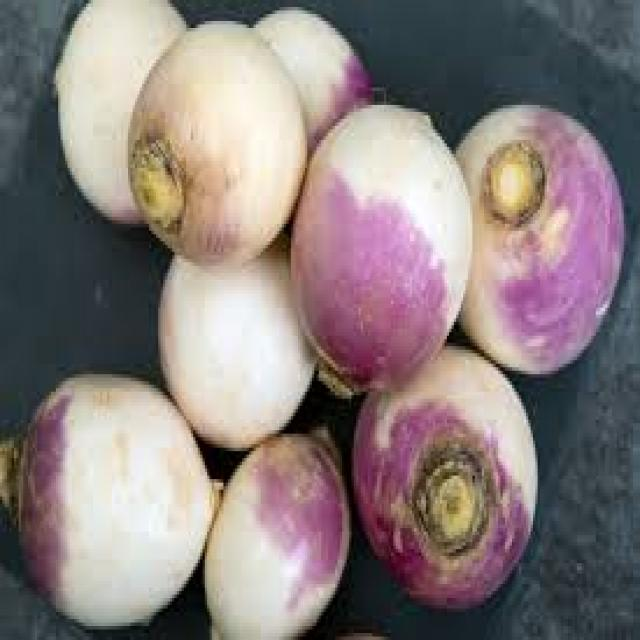organic waste: (0, 367, 221, 630), (289, 98, 470, 392), (349, 339, 535, 612), (452, 98, 622, 367), (126, 14, 307, 266), (154, 231, 316, 444), (200, 416, 347, 637), (51, 0, 190, 220), (244, 0, 369, 143)
